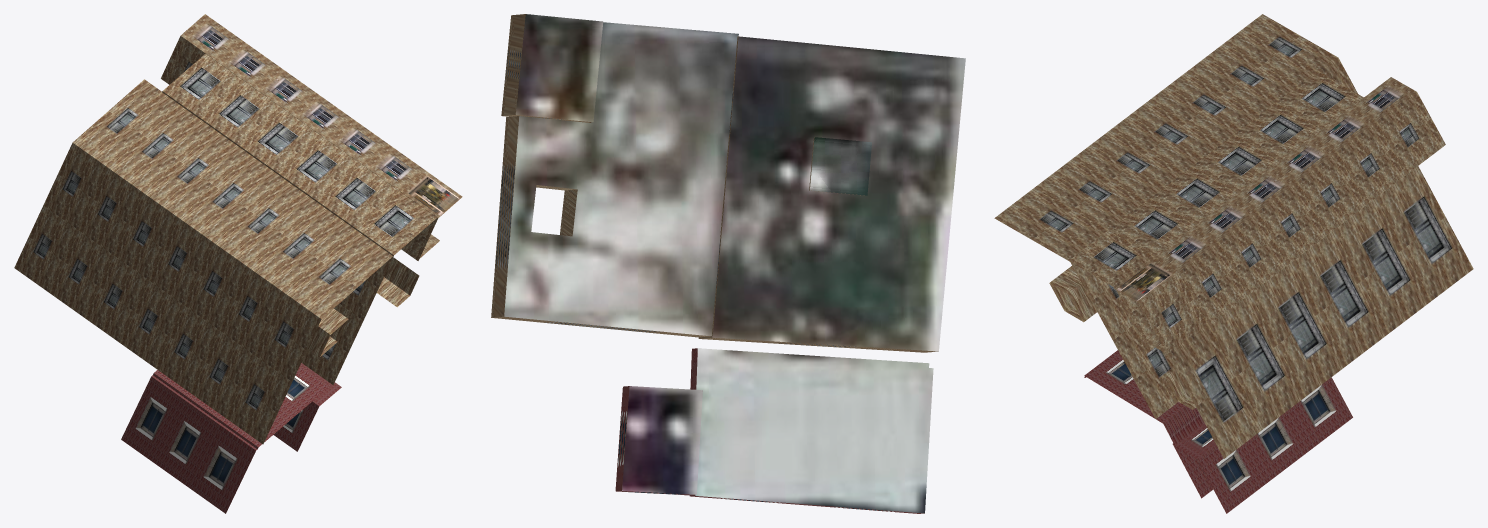
3 views of the same model, side by side, from view 1: azimuth 30°, elevation 25°; view 2: azimuth 150°, elevation 25°; view 3: azimuth 270°, elevation 25° (orthographic). The views are drawn at different scales.
Size of the model in its own units: 28.82 by 29.16 by 30.12.
18 materials, 18 textured.
